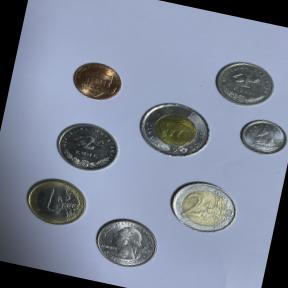coin: (127, 92, 220, 170), (160, 172, 245, 241), (46, 114, 126, 180), (86, 209, 164, 276), (16, 170, 94, 234), (65, 55, 129, 108), (232, 111, 288, 164)
